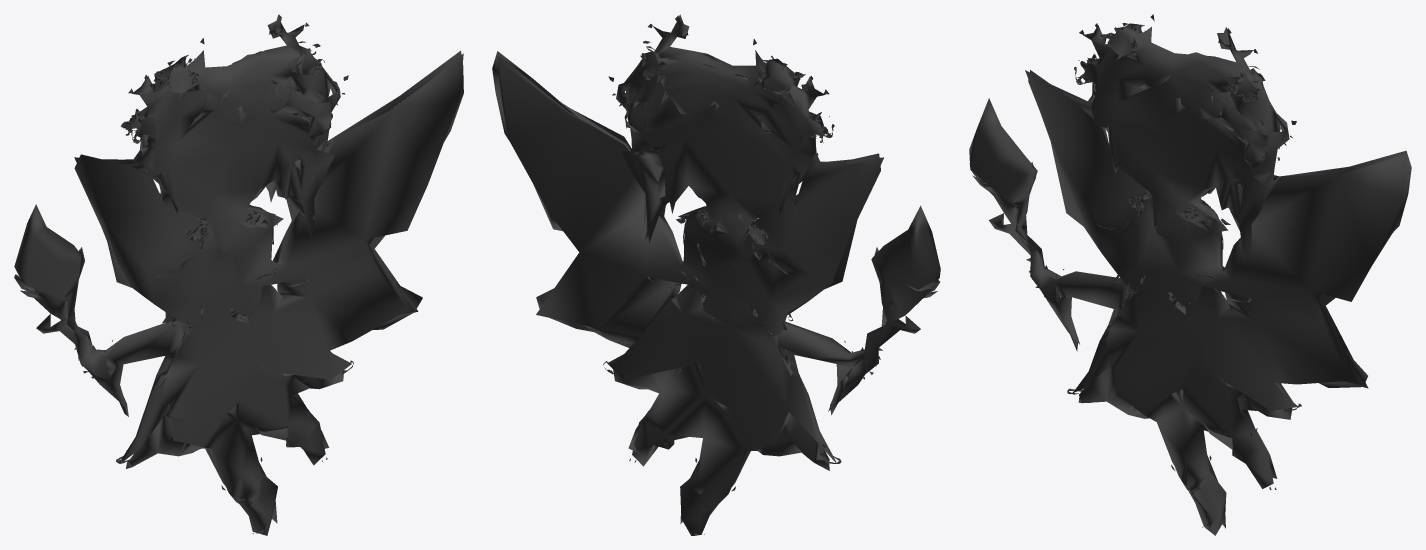
The model's file is savia.glb.
3 renders of one model, left to right at view 1: azimuth 30°, elevation 25°; view 2: azimuth 150°, elevation 25°; view 3: azimuth 330°, elevation 25°, orthographic.
Visible parts, largest first — view 1: geometry_0; view 2: geometry_0; view 3: geometry_0.
Boxes of the visible parts, left/top/right/bottom form: geometry_0: left=14, top=14, right=463, bottom=535; geometry_0: left=492, top=14, right=940, bottom=535; geometry_0: left=969, top=14, right=1411, bottom=535.
Bounding box in the file's own units: 0.8943 × 0.9886 × 0.0589.
1 material, 1 textured.
